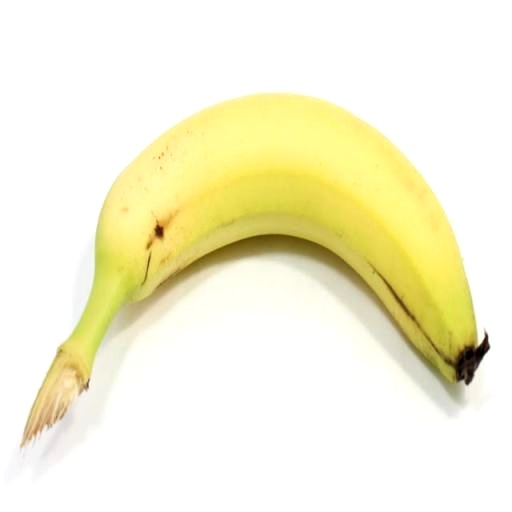fruit: (22, 94, 488, 444)
